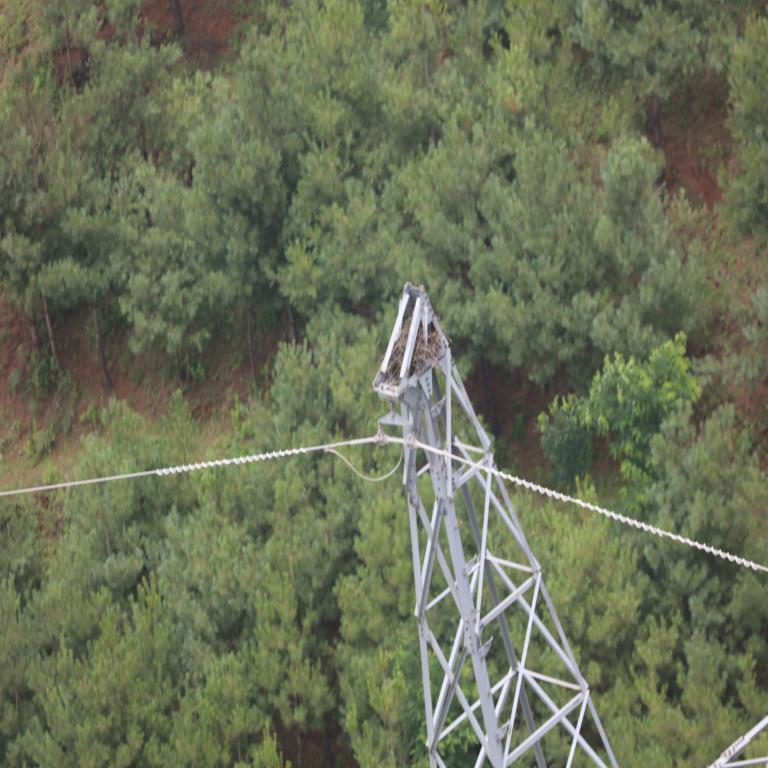nest: (388, 316, 442, 373)
